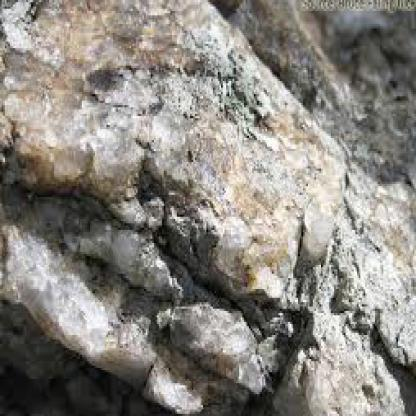Metamorphic_Quartize: (146, 88, 313, 300), (3, 0, 125, 189), (321, 140, 414, 366)
